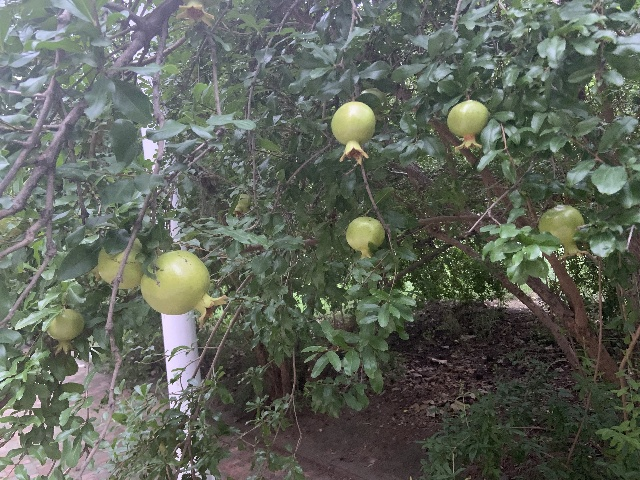mid-growth: (140, 249, 227, 327), (538, 205, 589, 260), (330, 101, 375, 163), (91, 237, 143, 288), (447, 100, 489, 152), (345, 215, 385, 259), (47, 308, 84, 354), (233, 194, 251, 217)
